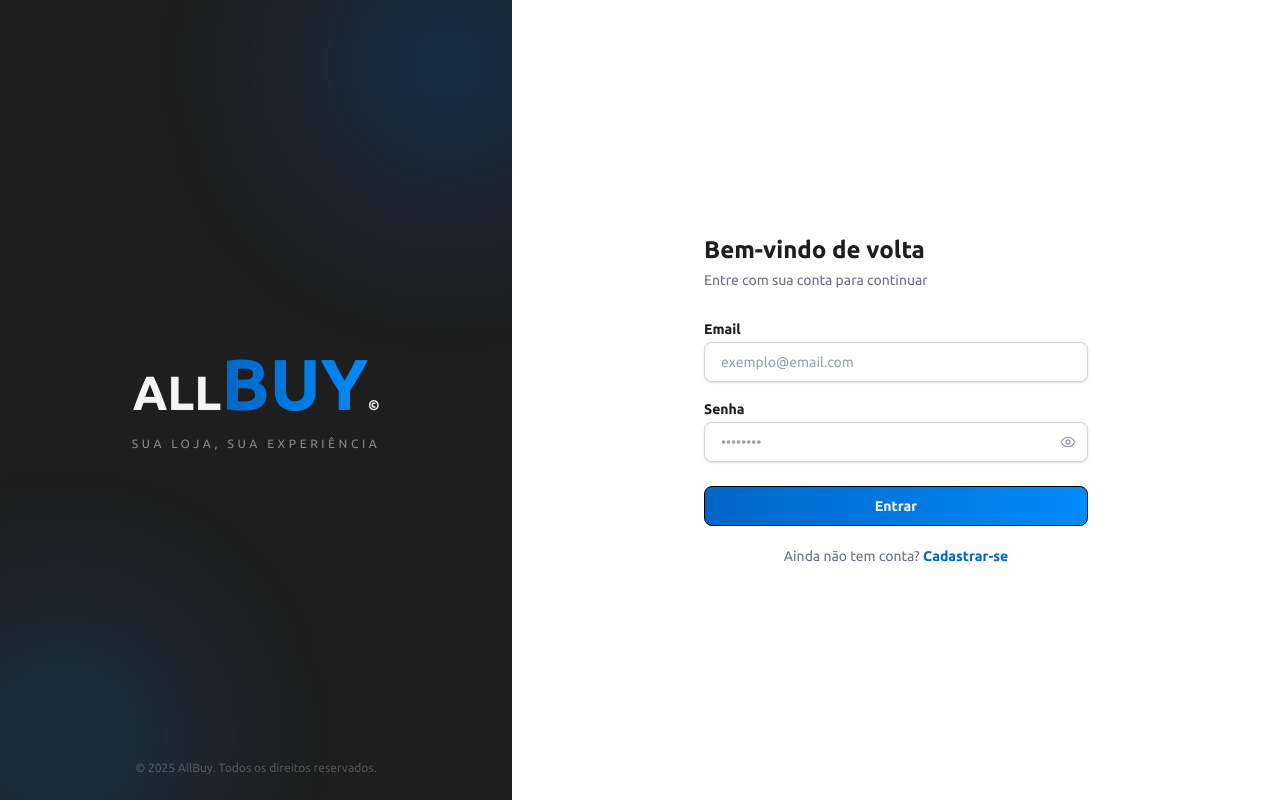
Scenario: Login page — form submission › displays backend error message on 401
This screenshot has width=1280, height=800.
Type "wrong@email.com" into the field labelled "Email" at (896, 362), box [704,342,1088,382]
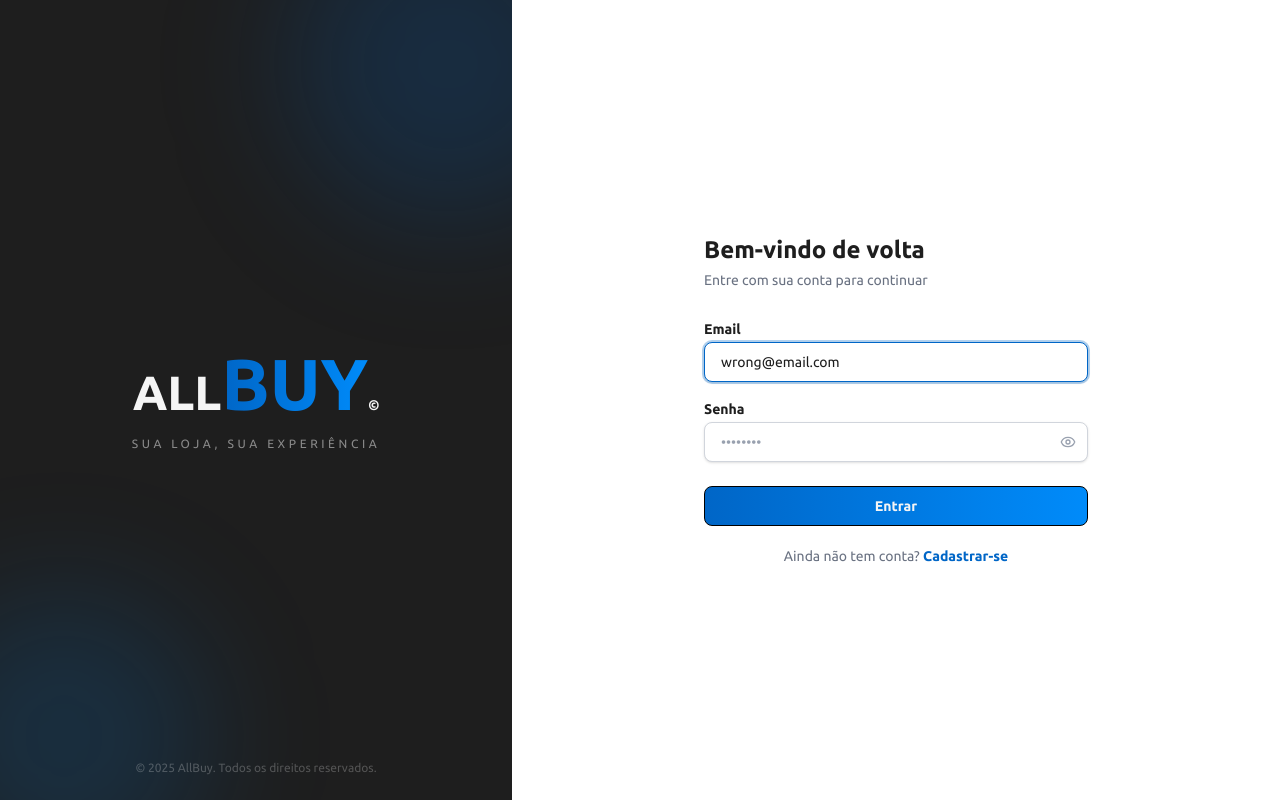
Type "wrongpassword" into the password field labelled "Senha" at (896, 442), box [704,422,1088,462]
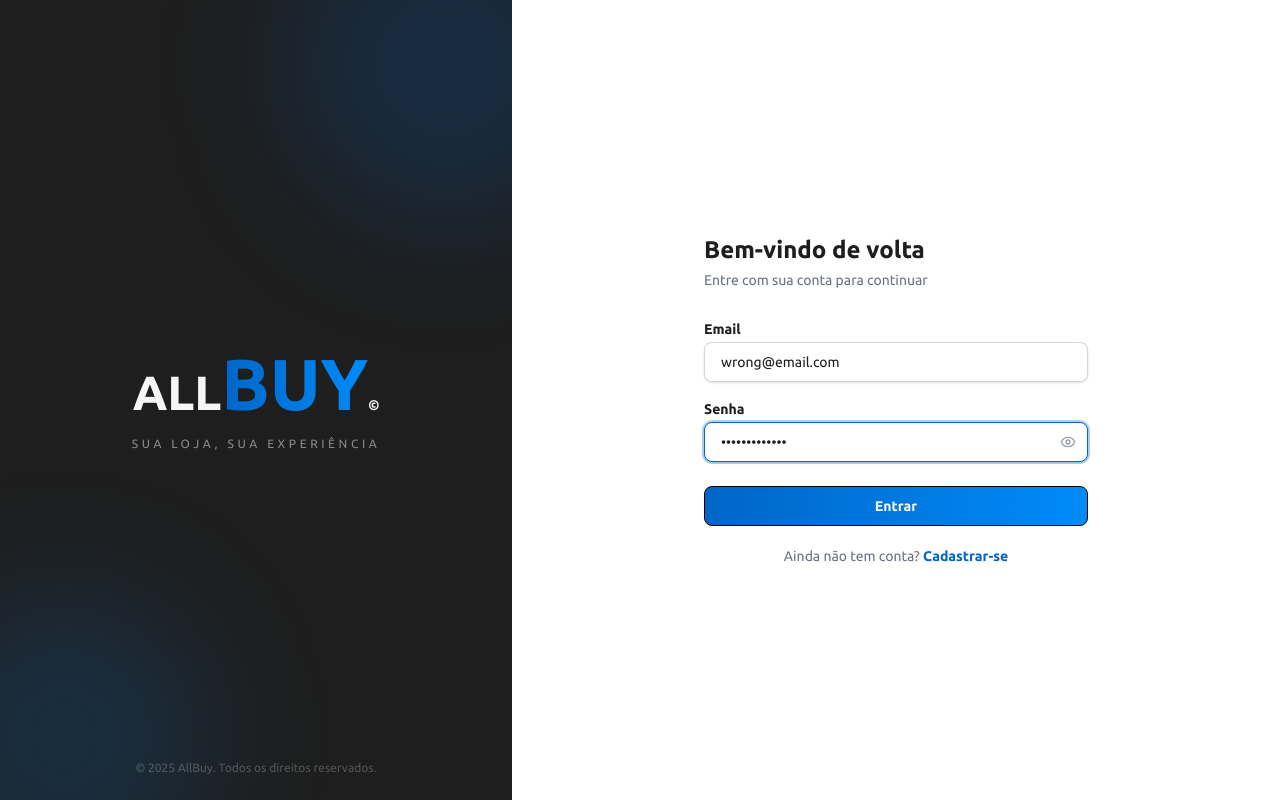
Click the button "Entrar" at (896, 506), box [704,486,1088,526]
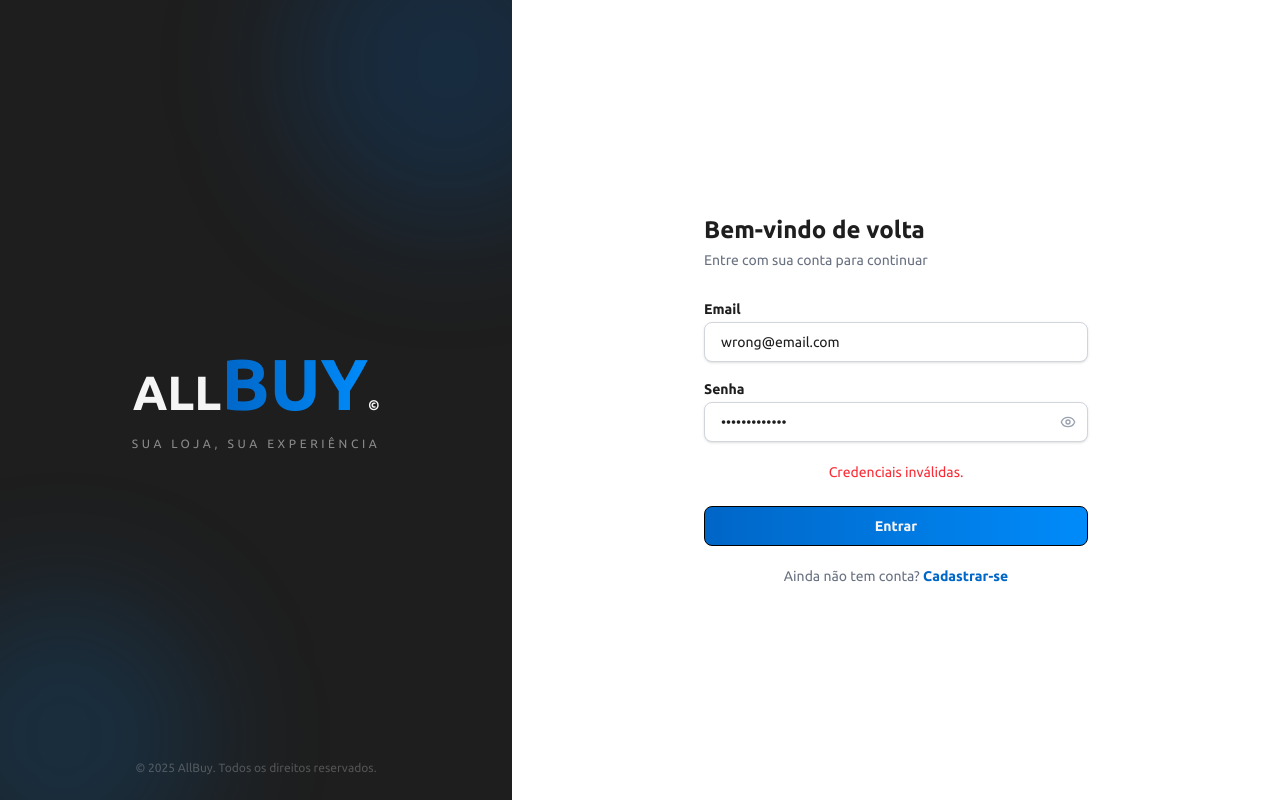
Expected: the message reads "Credenciais inválidas.", [829,464,963,480]
